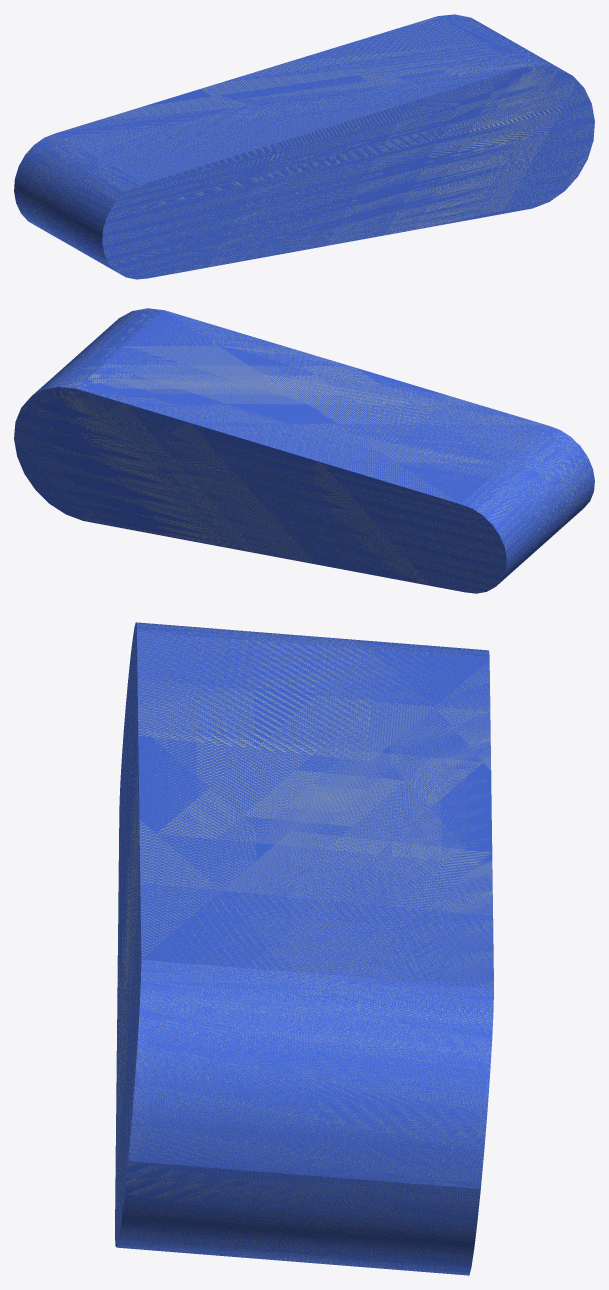
File: p2LeftFlipper.dae
The picture shows the model from 3 angles, top to bottom: view 1: azimuth 30°, elevation 25°; view 2: azimuth 150°, elevation 25°; view 3: azimuth 270°, elevation 25°; orthographic projection. The views are drawn at different scales.
Visible parts, largest first — view 1: SketchUp; view 2: SketchUp; view 3: SketchUp.
Boxes of the visible parts, x1,y1,x2,y2 form: SketchUp: [14, 14, 594, 279]; SketchUp: [14, 308, 594, 593]; SketchUp: [115, 622, 493, 1275].
Bounding box in the file's own units: 443 × 148 × 130.
